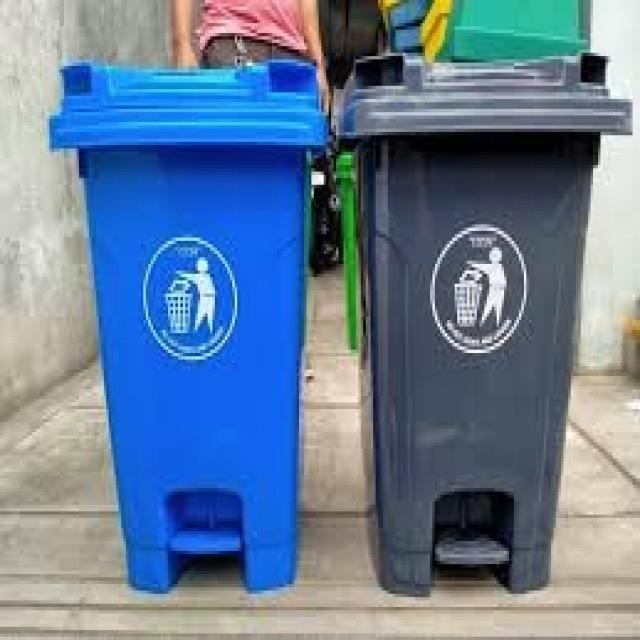Dumpster: (338, 54, 632, 608), (51, 59, 327, 590)
